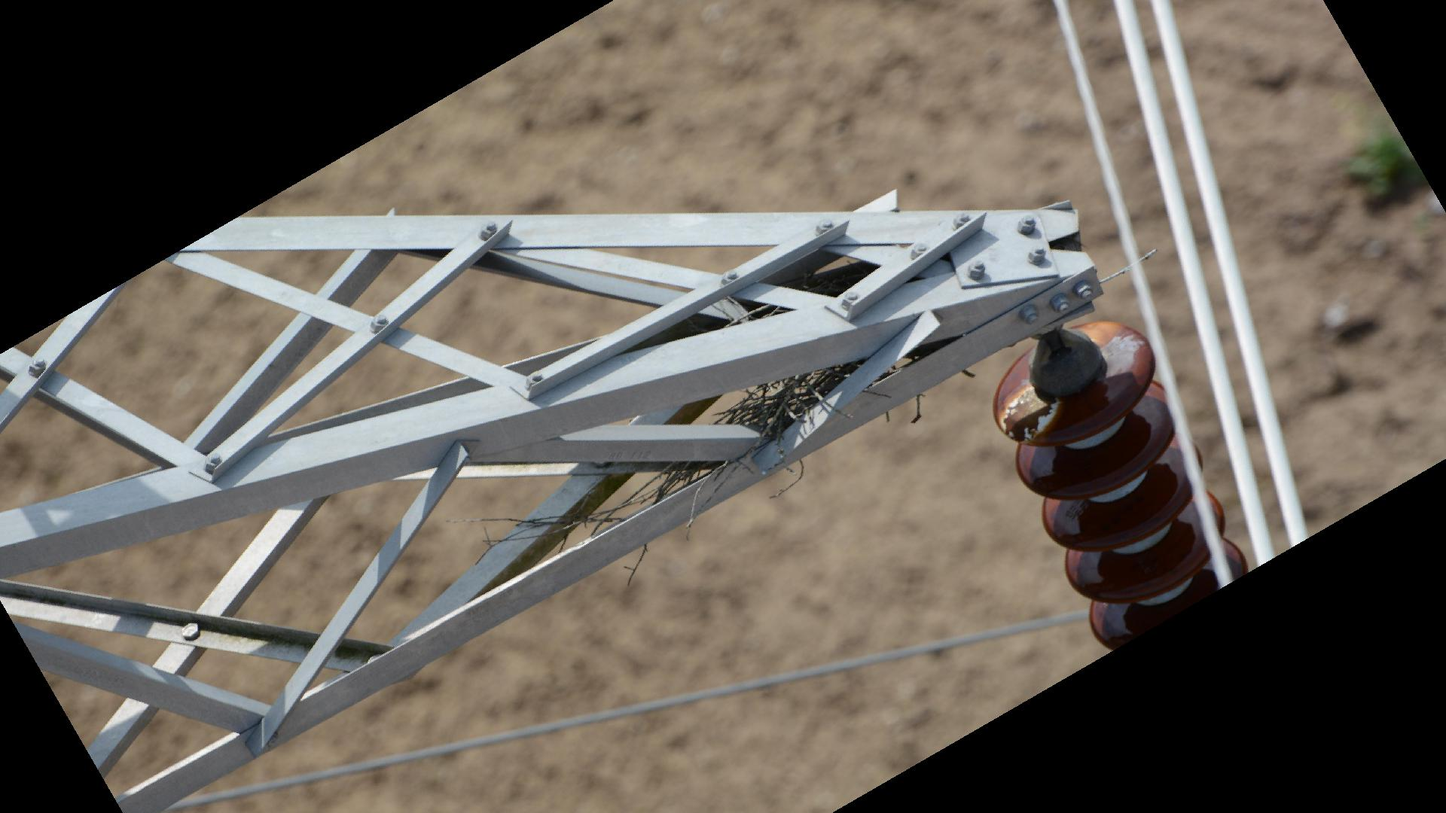insulator: (987, 308, 1259, 660)
insulator_flashover: (994, 385, 1063, 445), (1098, 330, 1149, 379)
